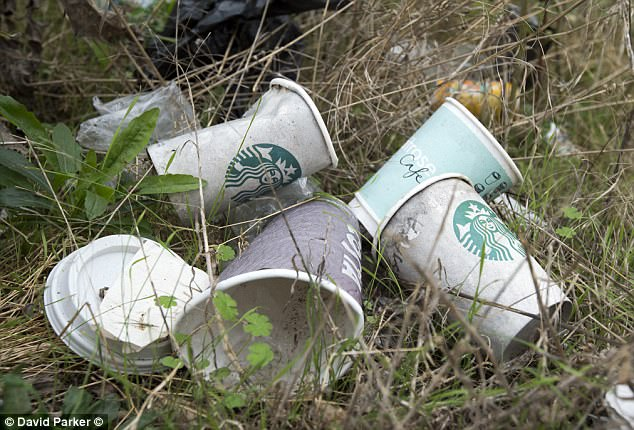cup: (167, 193, 376, 410), (370, 171, 581, 377), (136, 66, 349, 198), (346, 90, 526, 213)
